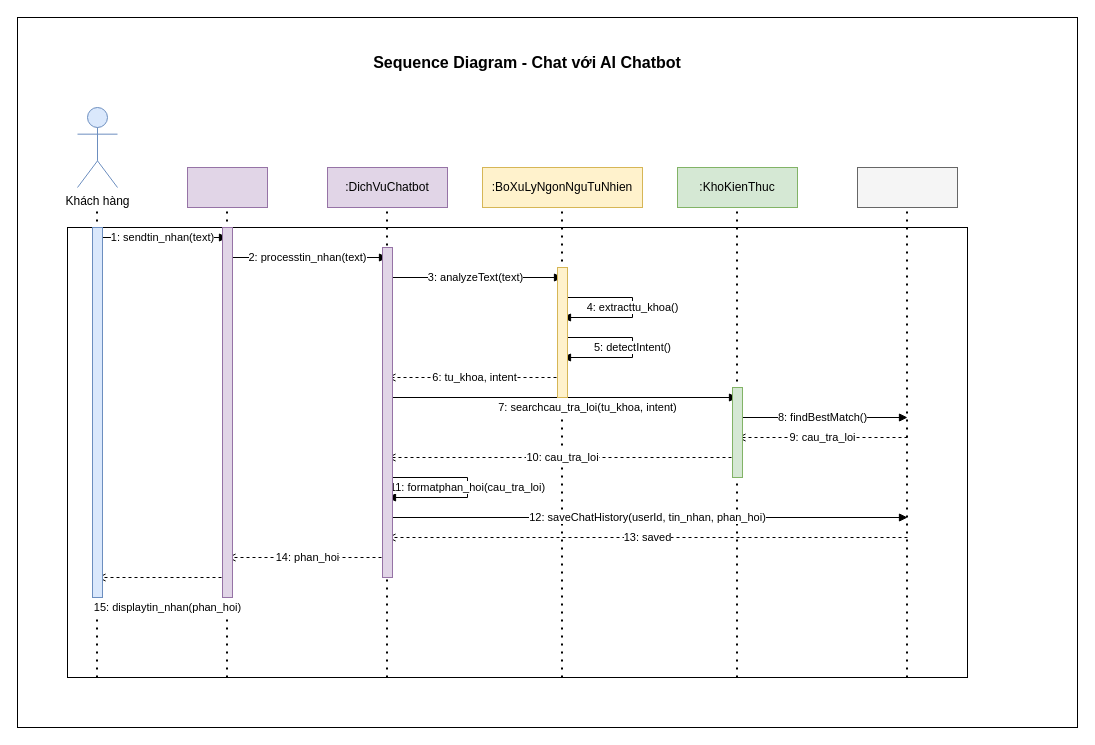
This 1095x745 diagram has some shape labels left out. Each missing label, with the centre of its shape:
":ChatUI" belongs at pixel 227 187.
":CoSoDuLieu" belongs at pixel 907 187.
